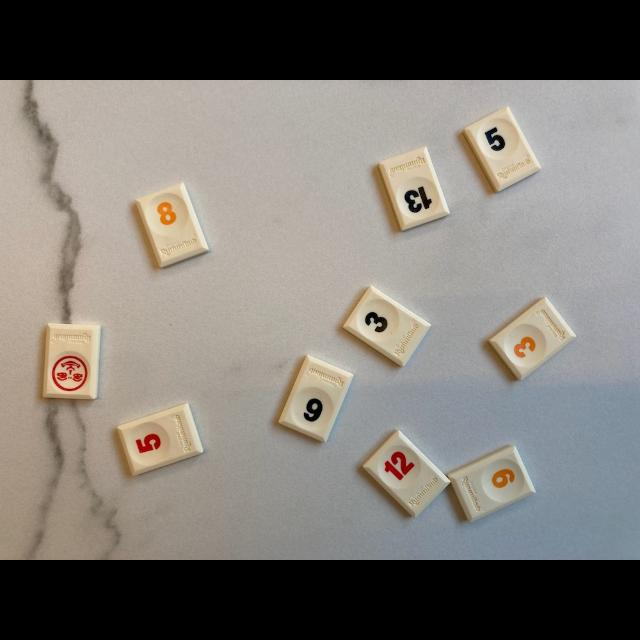black_13: (379, 148, 449, 230)
black_3: (345, 286, 430, 366)
black_5: (464, 106, 541, 192)
black_6: (279, 355, 352, 441)
joker: (44, 324, 101, 399)
orange_3: (489, 298, 576, 380)
orange_6: (448, 445, 535, 522)
orange_8: (137, 182, 209, 268)
red_12: (364, 431, 450, 516)
red_5: (118, 404, 204, 475)
